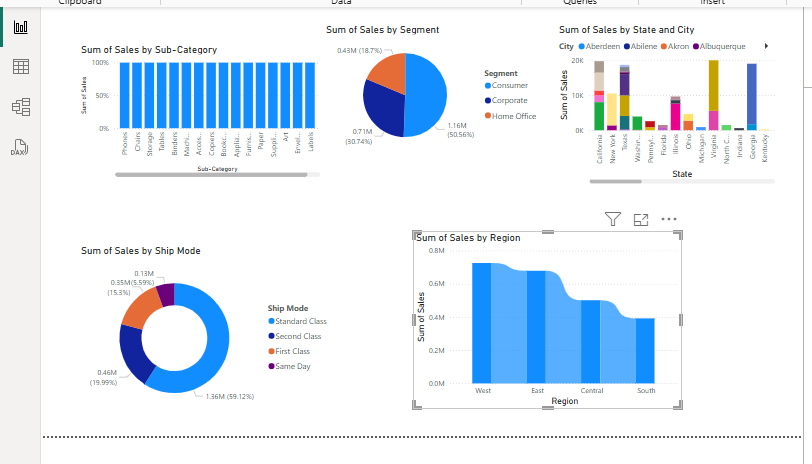

Layout of this report page (visuals, bound fields, positions):
{"tool":"powerbi","page":{"name":"Page 1","canvas":[1280,720],"ordinal":0},"visuals":[{"type":"pieChart","fields":{"Y":["Sum(Orders.Sales)"],"Category":["Customer.Segment"]},"box":[473.7,26.9,372.9,223.4],"z":0},{"type":"columnChart","fields":{"Y":["Sum(Orders.Sales)"],"Category":["Location.State"],"Series":["Location.City"]},"box":[865.1,26.9,372.9,275.5],"z":1000},{"type":"donutChart","fields":{"Y":["Sum(Orders.Sales)"],"Category":["Orders.Ship Mode"]},"box":[62.2,398.1,431.7,297.3],"z":2000},{"type":"ribbonChart","fields":{"Y":["Sum(Orders.Sales)"],"Category":["Location.Region"]},"box":[624.9,376.3,451.9,299],"z":3000},{"type":"hundredPercentStackedColumnChart","fields":{"Y":["Sum(Orders.Sales)"],"Category":["Product.Sub-Category"]},"box":[62.2,60.5,411.5,230.1],"z":4000}]}

Visuals, with their boxes on the page's 1280x720 design canvas (x1, y1, x2, y2). These are canvas units, not pixel positions in the 812x464 screenshot, which may show the page scaled, cropped or inside an application window:
pieChart - Sum(Orders.Sales) x Customer.Segment: <region>474, 27, 847, 250</region>
columnChart - Sum(Orders.Sales) x Location.State: <region>865, 27, 1238, 302</region>
donutChart - Sum(Orders.Sales) x Orders.Ship Mode: <region>62, 398, 494, 695</region>
ribbonChart - Sum(Orders.Sales) x Location.Region: <region>625, 376, 1077, 675</region>
hundredPercentStackedColumnChart - Sum(Orders.Sales) x Product.Sub-Category: <region>62, 60, 474, 291</region>
